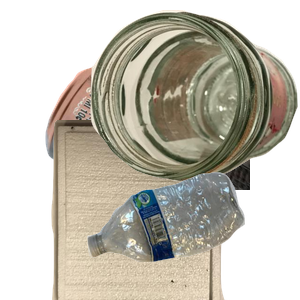glass: (90, 10, 300, 184)
metal: (43, 58, 283, 238)
plastic: (85, 170, 300, 300)
trash: (49, 120, 269, 300)
